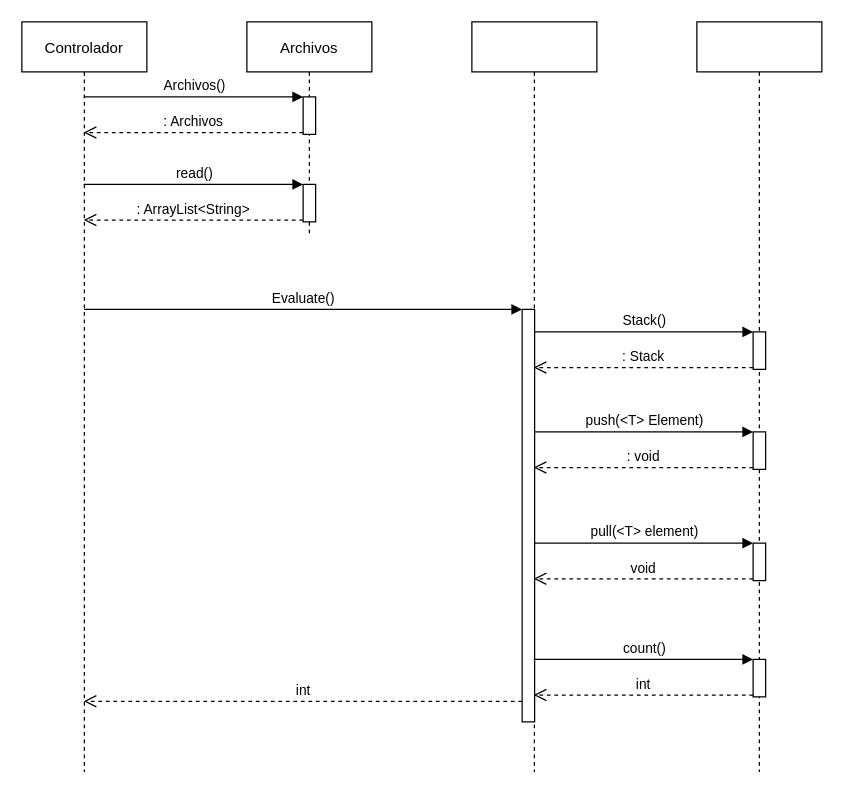
The diagram is 844 pixels wide and 794 high, and some of its shapes have lost their labels. The shapes that lost their labels are listed below. From the top down, each one's box as (x1, y1, x2, y2) in pixels, then its label:
(471, 21, 597, 772): Calculadora
(696, 21, 822, 772): Stack
